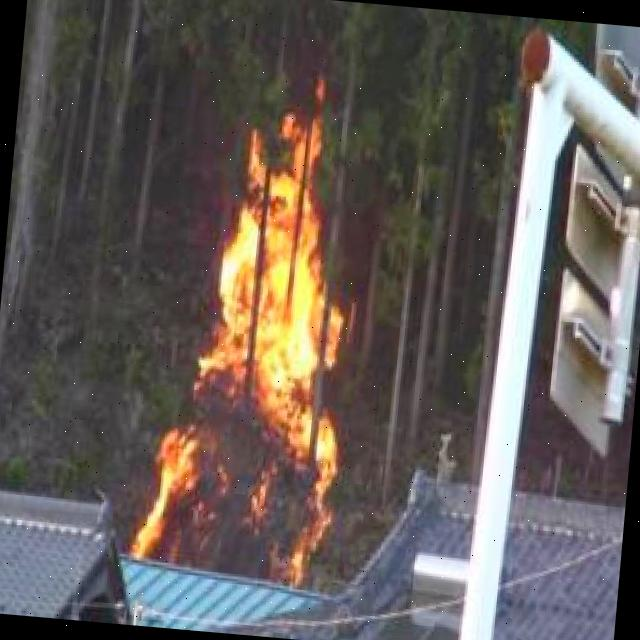fire: (135, 89, 363, 588)
